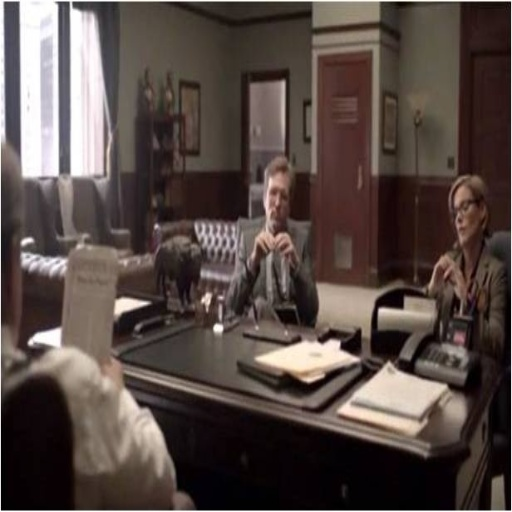hand: (275, 228, 299, 268), (441, 258, 465, 298), (98, 351, 123, 387), (251, 228, 273, 268), (432, 252, 451, 292)
